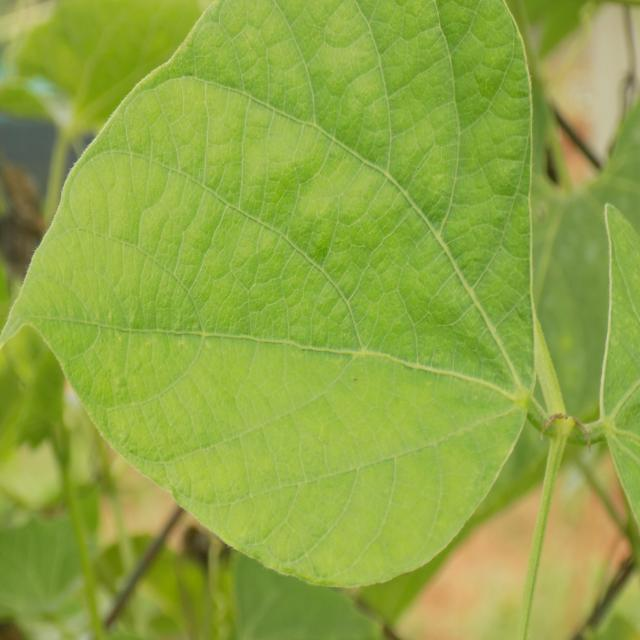Dolicos bean_healthy: (0, 0, 535, 597)
